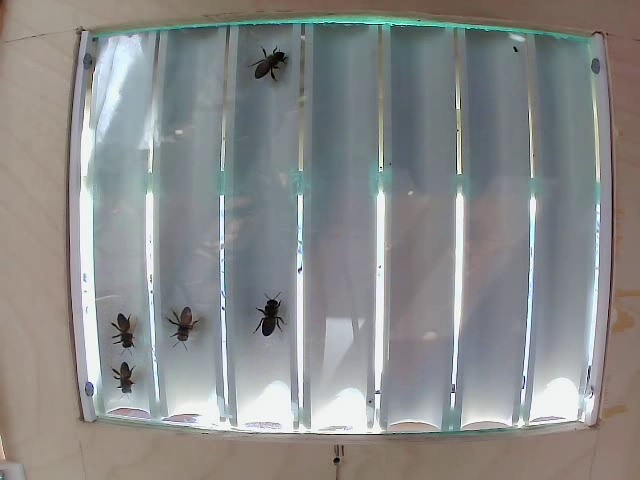bee: (249, 49, 285, 90), (255, 292, 289, 331), (111, 359, 150, 387), (110, 307, 136, 337), (169, 305, 193, 335)
